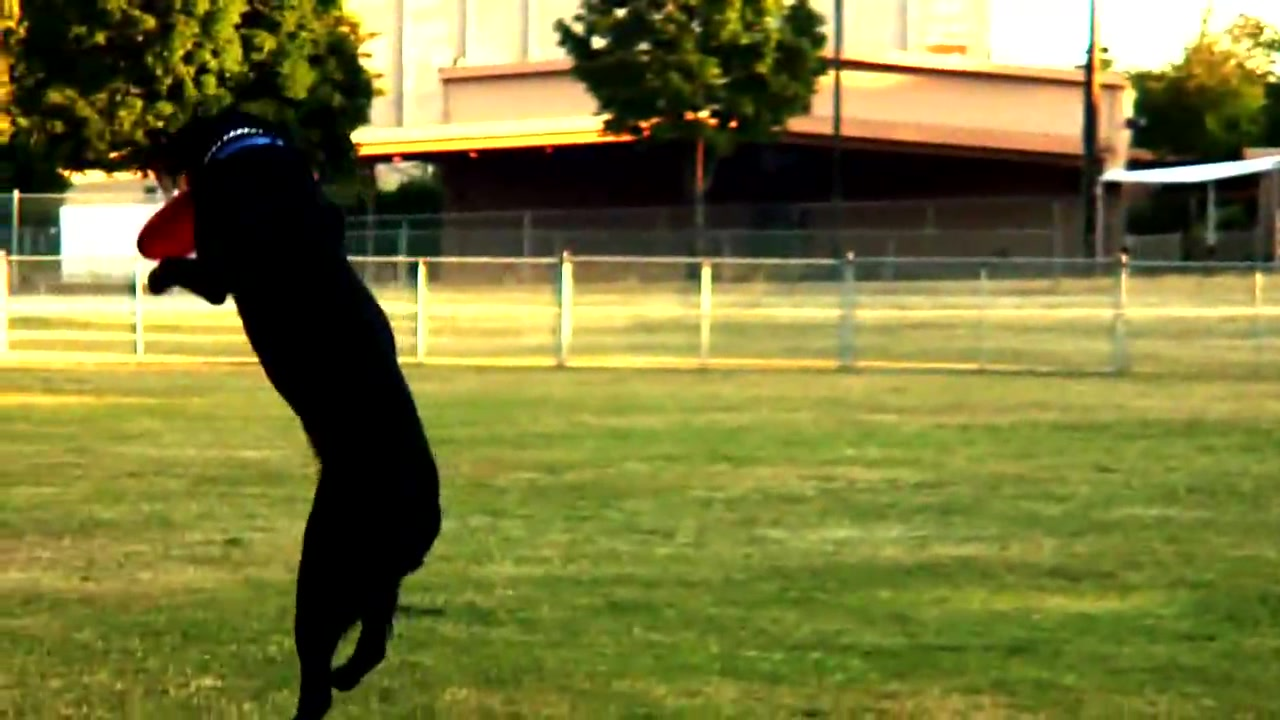dog: (143, 99, 449, 719)
